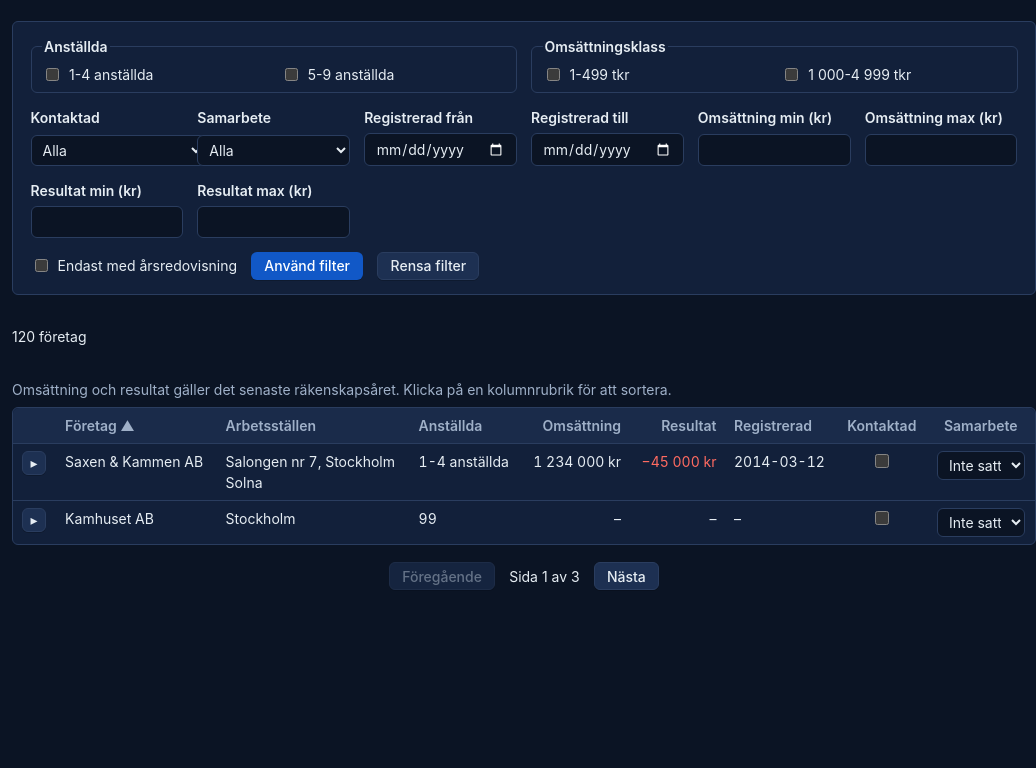
CompanyResults › pagination › moves between pages and keeps the page in the URL
The image size is (1036, 768).
Later steps or results of the test are not shown.
Expected: the table is shown, [12, 378, 1035, 545]
Expected: the text "Sida 1 av 3" is shown, [509, 566, 580, 587]
Step 1. Click the button "Nästa" → click(626, 576), box [594, 562, 659, 590]
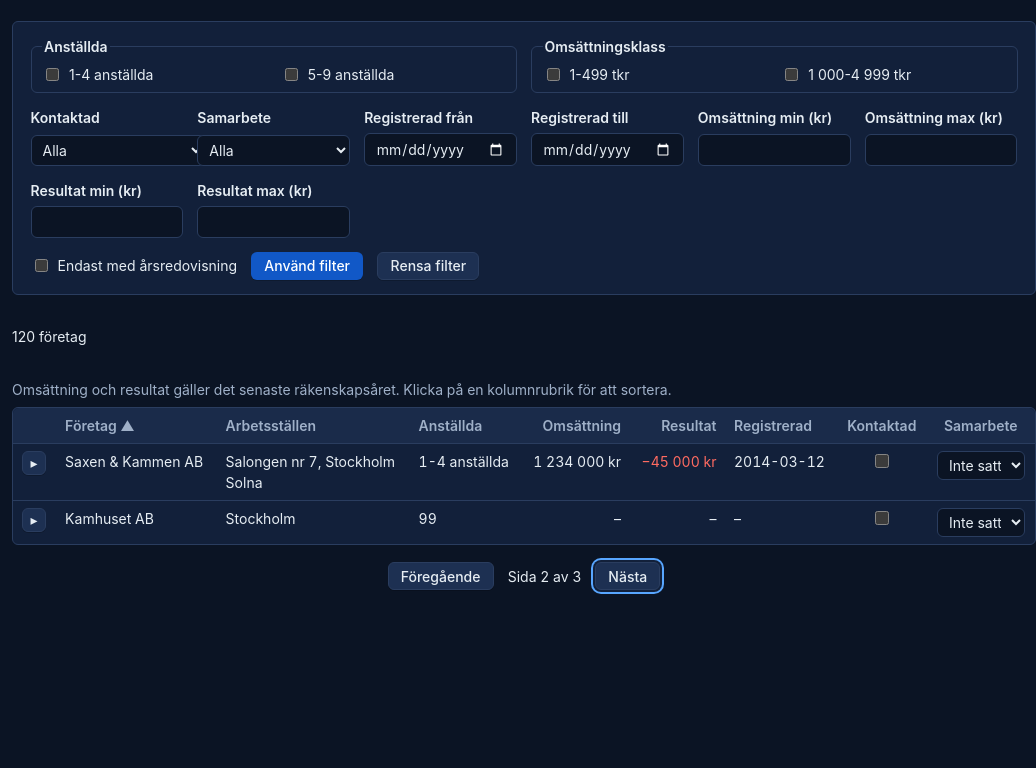
Expected: the text "Sida 2 av 3" is shown, [508, 566, 581, 587]
